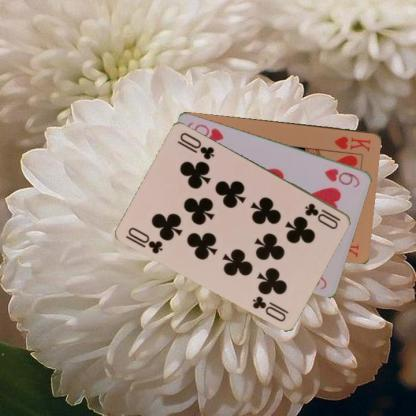10c: (123, 224, 165, 255), (302, 200, 342, 230)
6h: (322, 165, 361, 189)
Kh: (332, 133, 372, 152)
